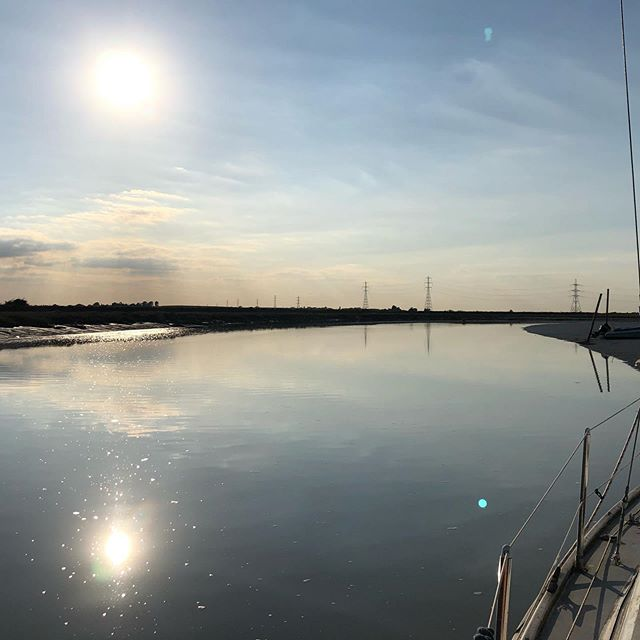river: (1, 312, 577, 640)
sky: (1, 1, 634, 305), (76, 36, 177, 128)
